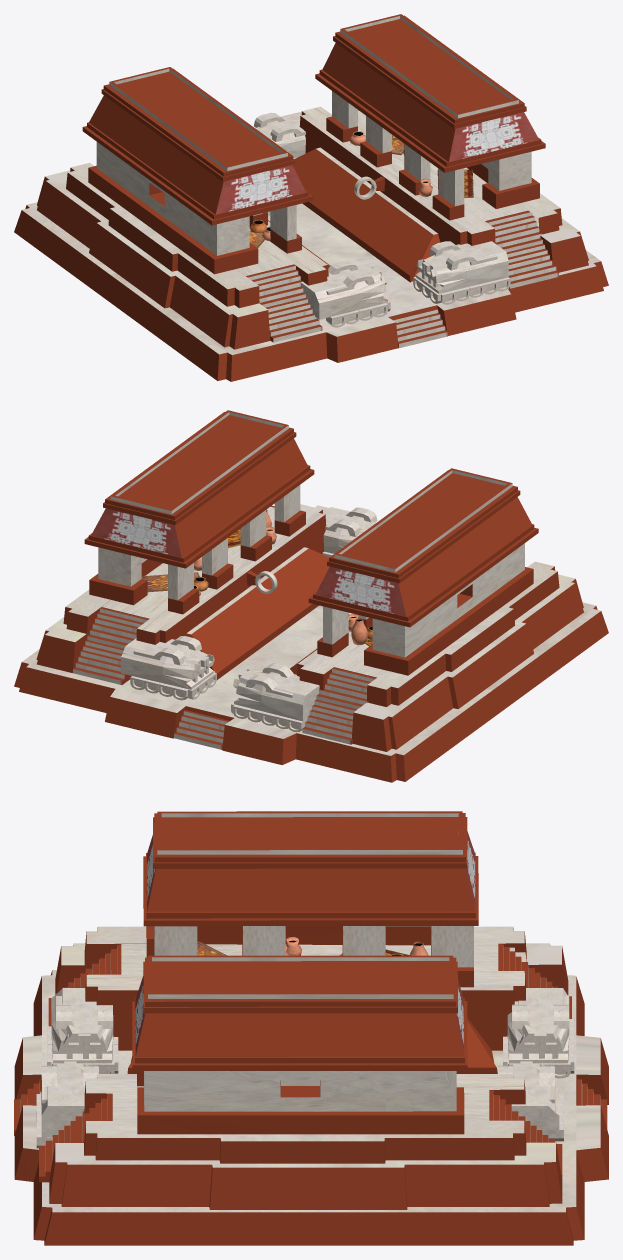
The model's file is ball_1.dae.
3 views of the same model, one above another, from view 1: azimuth 30°, elevation 25°; view 2: azimuth 150°, elevation 25°; view 3: azimuth 270°, elevation 25° (orthographic). The views are drawn at different scales.
Parts seen in each view (by area): view 1: b_1; view 2: b_1; view 3: b_1.
Boxes of the visible parts, x1,y1,x2,y2 form: b_1: [14, 14, 608, 381]; b_1: [14, 410, 608, 782]; b_1: [14, 811, 608, 1245].
Bounding box in the file's own units: 27.06 × 27.4 × 11.15.
